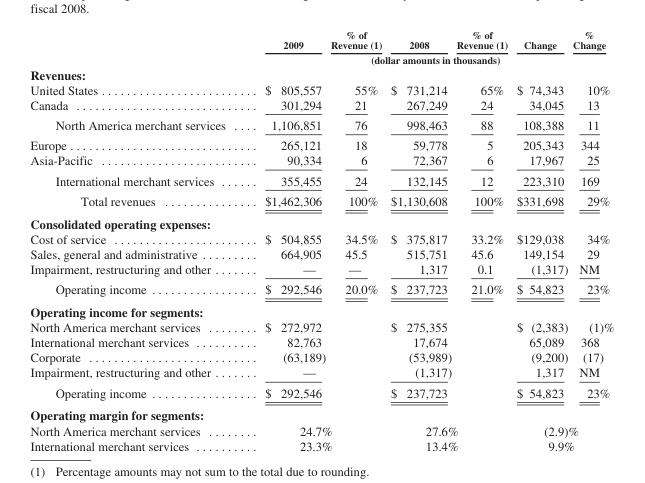table: (29, 28, 613, 452)
table column: (29, 28, 244, 452), (244, 28, 330, 452), (385, 28, 456, 452), (511, 28, 575, 452), (330, 28, 385, 452), (456, 28, 511, 452), (575, 28, 613, 452)
table column header: (29, 28, 613, 66)
table projected row header: (29, 211, 613, 230), (29, 300, 613, 319), (29, 403, 613, 422), (29, 66, 613, 81)
table row: (29, 28, 613, 52), (29, 278, 613, 300), (29, 190, 613, 211), (29, 382, 613, 403), (29, 114, 613, 134), (29, 170, 613, 190), (29, 211, 613, 230), (29, 300, 613, 319), (29, 403, 613, 422), (29, 96, 613, 114), (29, 134, 613, 152), (29, 152, 613, 170), (29, 364, 613, 382), (29, 261, 613, 278), (29, 245, 613, 261), (29, 66, 613, 81), (29, 81, 613, 96), (29, 230, 613, 245), (29, 319, 613, 334), (29, 334, 613, 349), (29, 349, 613, 364), (29, 422, 613, 437), (29, 437, 613, 452), (29, 52, 613, 66)
table spanning cell: (244, 52, 613, 66)
